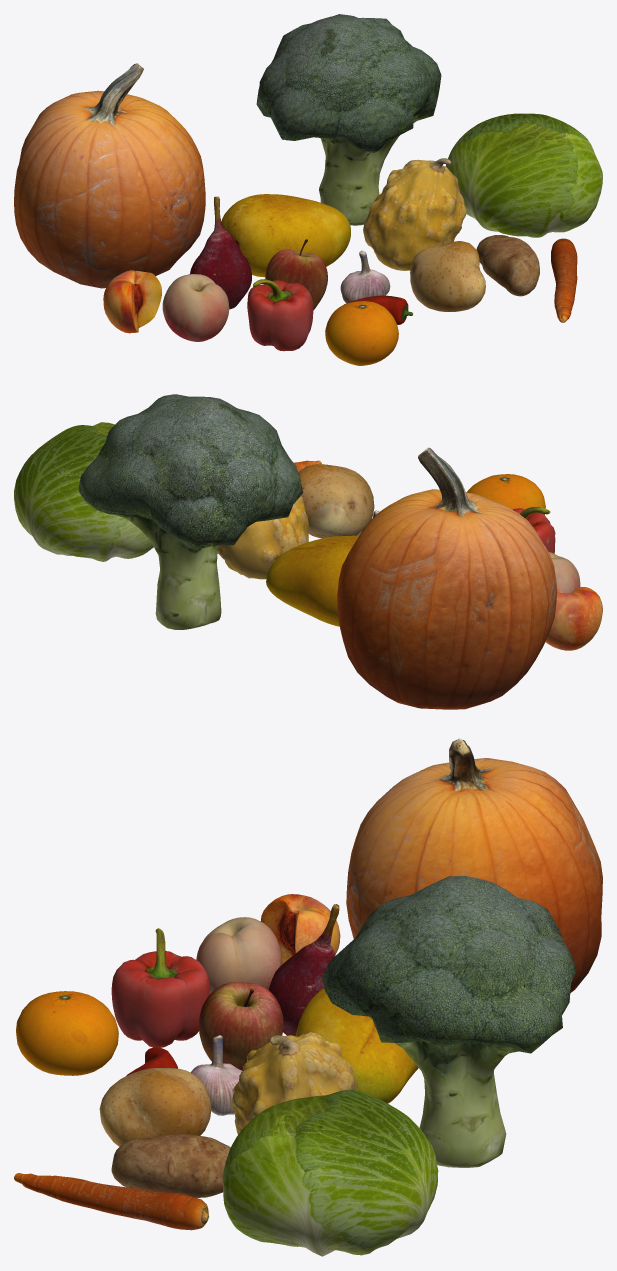
3 renders of one model, top to bottom at view 1: azimuth 30°, elevation 25°; view 2: azimuth 150°, elevation 25°; view 3: azimuth 270°, elevation 25°, orthographic. The views are drawn at different scales.
Visible parts, largest first — view 1: Pumpkin, Broccoli, Cabbage, Decorative Gourd, Mango, Potato, Red Bell Pepper, Mandarin Orange, Peach, Red Pear, Cut Yellow Peach, Russet Potato (+4 smaller); view 2: Pumpkin, Broccoli, Cabbage, Mango, Potato, Decorative Gourd, Cut Yellow Peach, Mandarin Orange, Red Bell Pepper, Peach; view 3: Broccoli, Pumpkin, Cabbage, Red Bell Pepper, Decorative Gourd, Mandarin Orange, Potato, Russet Potato, Mango, Carrot, Apple, Peach (+3 smaller).
Boxes of the visible parts, <box> form: Pumpkin: <box>14,63,205,288</box>; Broccoli: <box>256,14,441,225</box>; Cabbage: <box>445,113,602,237</box>; Decorative Gourd: <box>363,158,466,270</box>; Mango: <box>221,194,350,277</box>; Potato: <box>410,241,485,311</box>; Red Bell Pepper: <box>247,279,313,351</box>; Mandarin Orange: <box>325,301,398,365</box>; Peach: <box>162,274,229,341</box>; Red Pear: <box>190,196,251,309</box>; Cut Yellow Peach: <box>103,270,161,333</box>; Russet Potato: <box>476,235,539,296</box>; Pumpkin: <box>337,447,557,709</box>; Broccoli: <box>78,394,302,629</box>; Cabbage: <box>14,422,153,561</box>; Mango: <box>266,535,358,626</box>; Potato: <box>298,464,374,538</box>; Decorative Gourd: <box>217,495,308,579</box>; Cut Yellow Peach: <box>545,587,602,650</box>; Mandarin Orange: <box>466,474,545,514</box>; Red Bell Pepper: <box>512,506,555,553</box>; Peach: <box>549,552,580,593</box>; Broccoli: <box>322,875,575,1167</box>; Pumpkin: <box>346,738,602,992</box>; Cabbage: <box>222,1090,438,1256</box>; Red Bell Pepper: <box>111,928,209,1047</box>; Decorative Gourd: <box>231,1032,357,1134</box>; Mandarin Orange: <box>16,991,118,1075</box>; Potato: <box>99,1068,211,1146</box>; Russet Potato: <box>111,1134,230,1197</box>; Mango: <box>295,988,418,1103</box>; Carrot: <box>14,1173,208,1230</box>; Apple: <box>199,982,283,1070</box>; Peach: <box>196,917,281,994</box>.
Bounding box in the file's own units: 64.38 × 24.94 × 47.76.
Materials: 16 (16 with a texture image).
